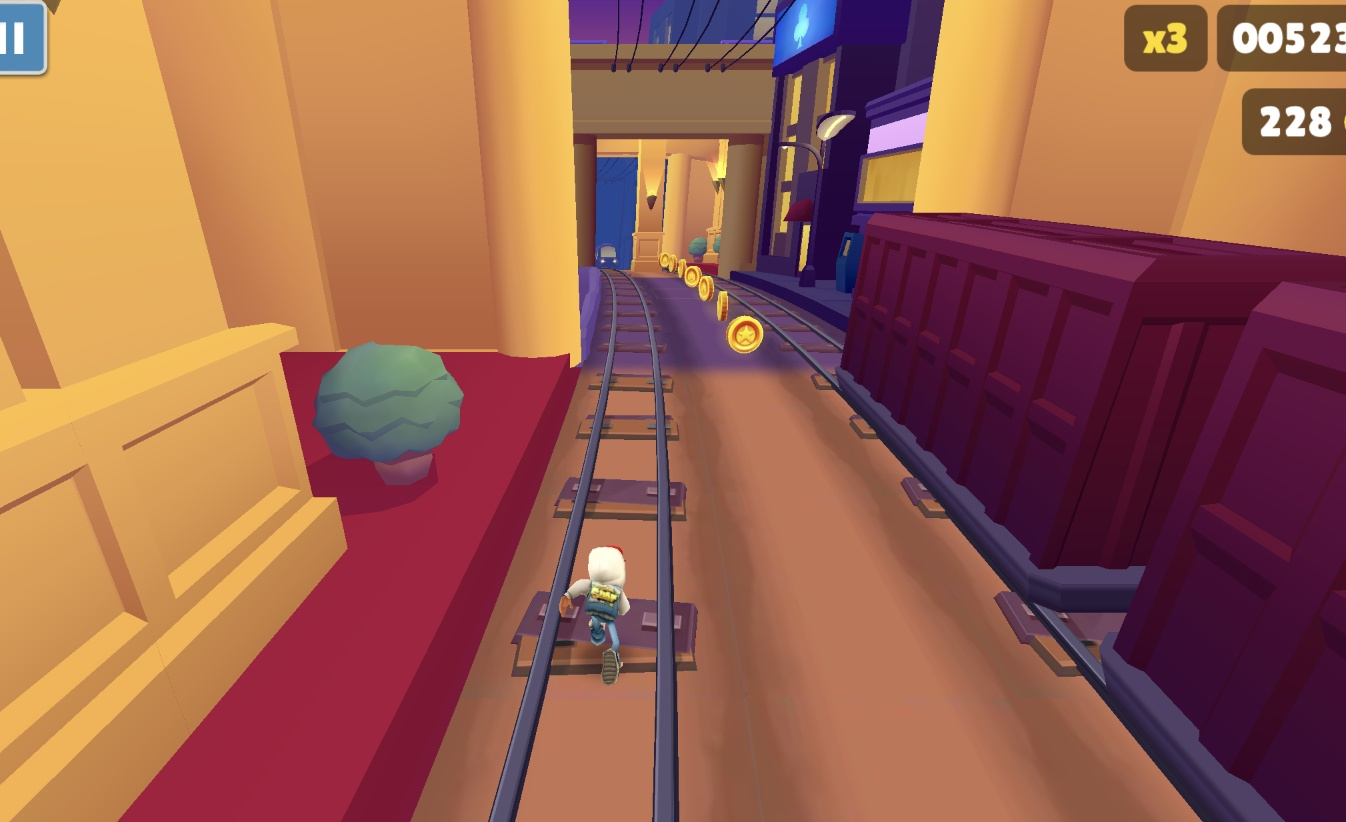pillar: (628, 142, 670, 274)
train: (836, 208, 1346, 786)
